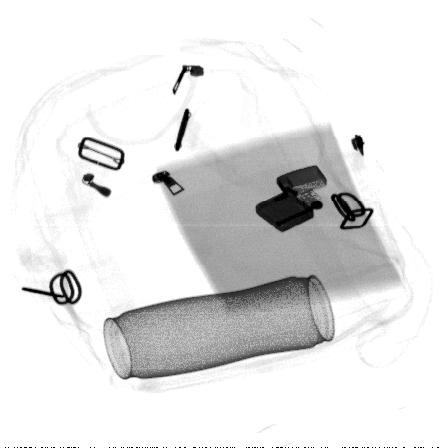Lighter: (255, 164, 328, 234)
